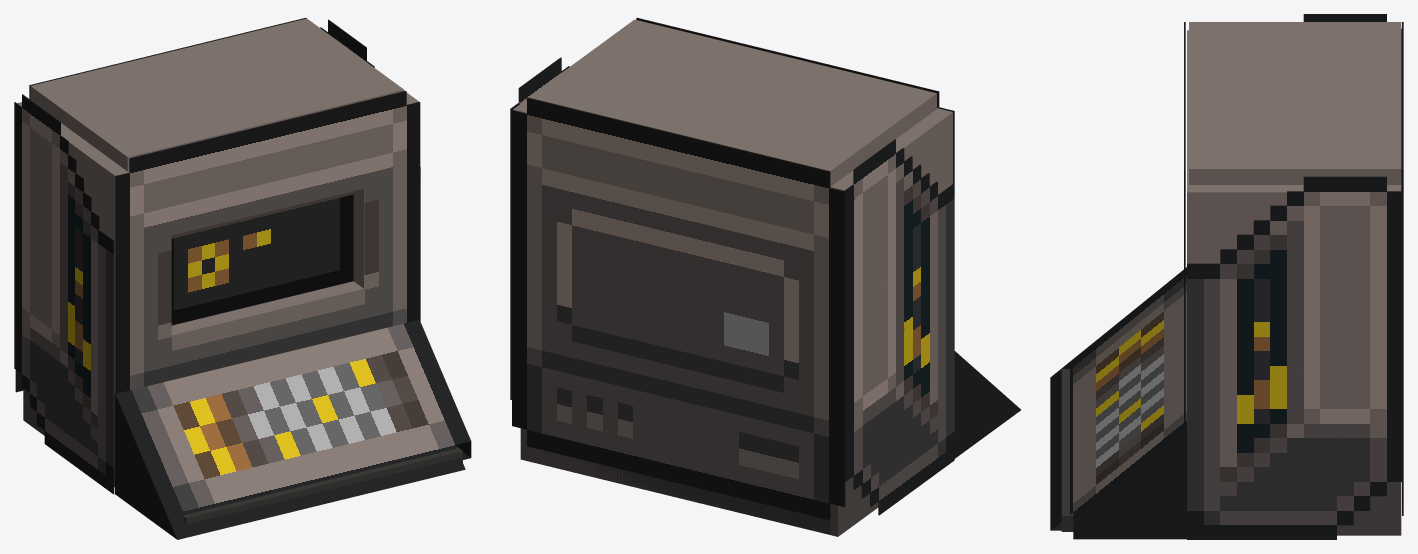
File: CMU3DWeYaOverwatchTerminalWest.glb
3 renders of one model, left to right at view 1: azimuth 30°, elevation 25°; view 2: azimuth 150°, elevation 25°; view 3: azimuth 270°, elevation 25°, orthographic. The views are drawn at different scales.
Visible parts, largest first — view 1: original front bezel, source keyboard on sloping deck, original left monitor profile, stepped crown, recessed display glass, upper monitor bezel, keyboard lower foot, lower monitor bezel, right monitor bezel, original right monitor profile, original rear service cover; view 2: original rear service cover, original left monitor profile, stepped crown, rear base and hinge, source keyboard on sloping deck, upper monitor bezel, keyboard lower foot, original right monitor profile, original front bezel; view 3: original right monitor profile, stepped crown, source keyboard on sloping deck, upper monitor bezel, rear base and hinge, keyboard lower foot, original left monitor profile, original front bezel.
Boxes of the visible parts, box(x1,y1,x2,y2) form: original front bezel: box(115, 91, 420, 393); source keyboard on sloping deck: box(115, 320, 471, 539); original left monitor profile: box(14, 94, 114, 494); stepped crown: box(30, 18, 404, 171); recessed display glass: box(171, 191, 353, 325); upper monitor bezel: box(17, 93, 418, 247); keyboard lower foot: box(182, 446, 462, 524); lower monitor bezel: box(171, 281, 363, 335); right monitor bezel: box(353, 188, 364, 288); original right monitor profile: box(320, 19, 420, 321); original rear service cover: box(15, 17, 306, 392); original rear service cover: box(512, 97, 845, 519); original left monitor profile: box(845, 139, 954, 515); stepped crown: box(528, 19, 936, 186); rear base and hinge: box(520, 428, 878, 536); source keyboard on sloping deck: box(954, 351, 1020, 458); upper monitor bezel: box(513, 99, 952, 194); keyboard lower foot: box(567, 456, 830, 534); original right monitor profile: box(510, 57, 569, 399); original front bezel: box(636, 17, 954, 183); original right monitor profile: box(1187, 176, 1403, 539); stepped crown: box(1189, 22, 1401, 184); source keyboard on sloping deck: box(1050, 267, 1186, 539); upper monitor bezel: box(1187, 30, 1401, 263); rear base and hinge: box(1337, 482, 1401, 535); keyboard lower foot: box(1061, 369, 1073, 531); original left monitor profile: box(1303, 14, 1401, 191); original front bezel: box(1184, 22, 1185, 428).
Size of what is drawn, in the model's own units: 0.6935 by 0.7188 by 0.634.
9 materials, 6 textured.
